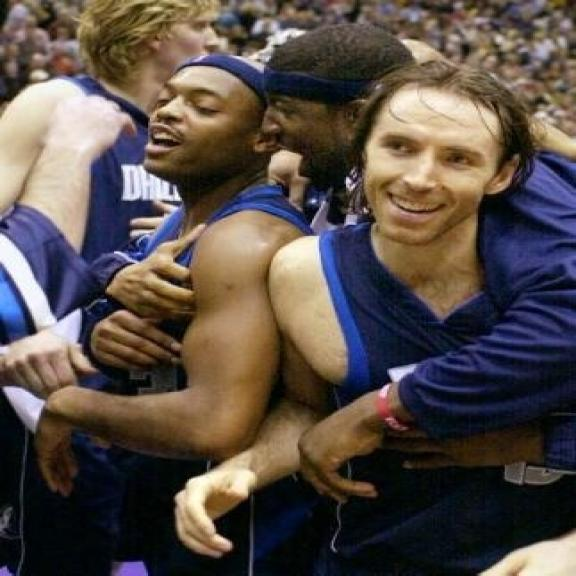face: (349, 66, 527, 251), (130, 52, 282, 186), (263, 20, 378, 191), (72, 0, 236, 80)
